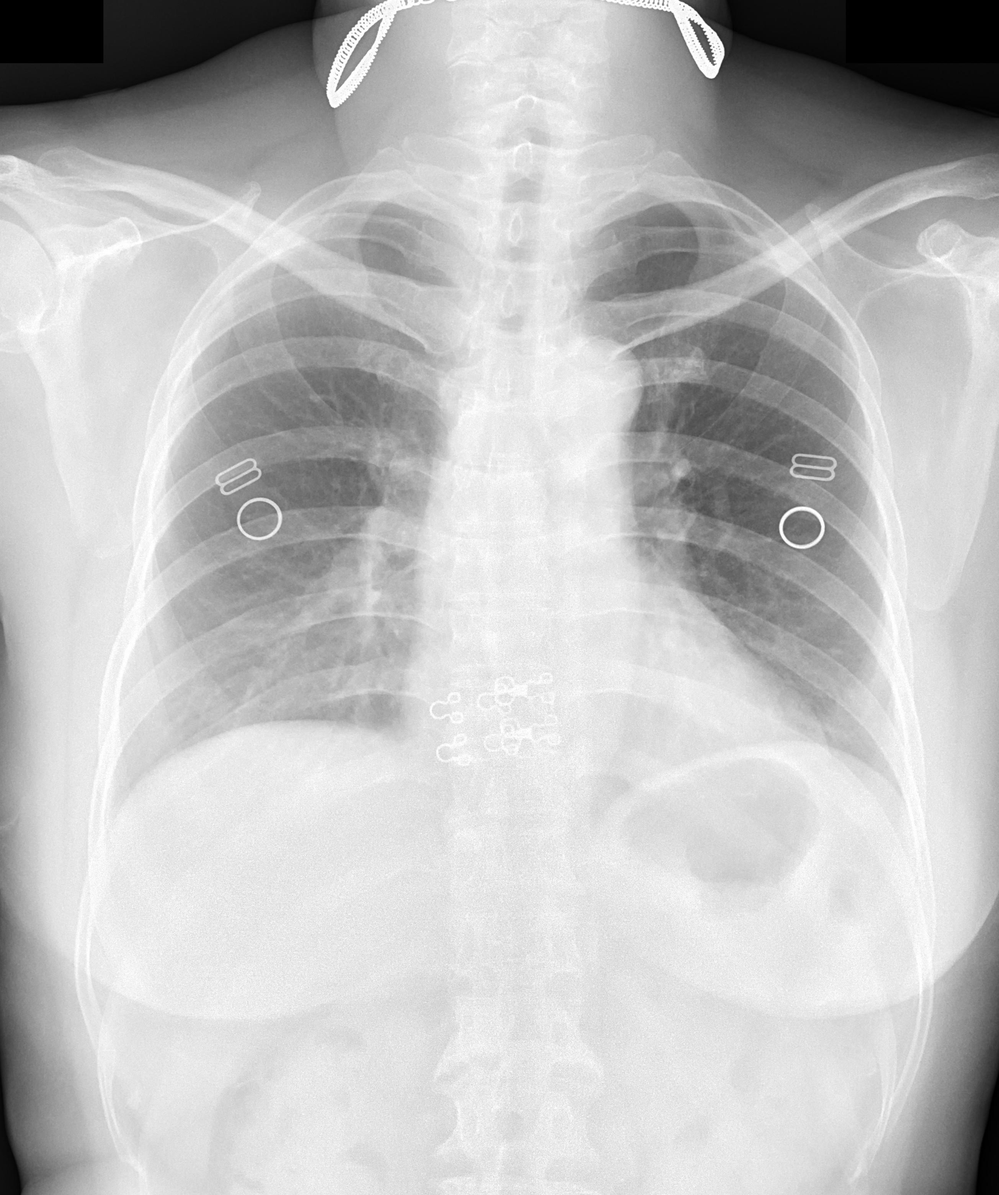Aortic enlargement: (534, 334, 641, 485)
